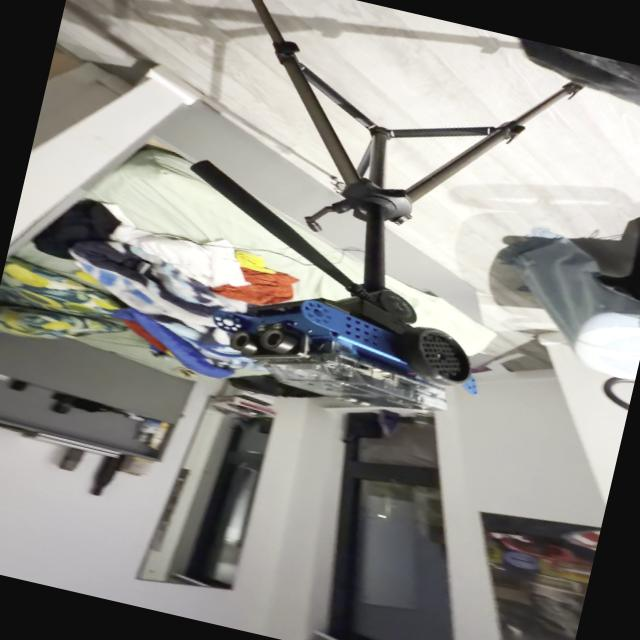mbot-detection: (195, 272, 498, 436)
